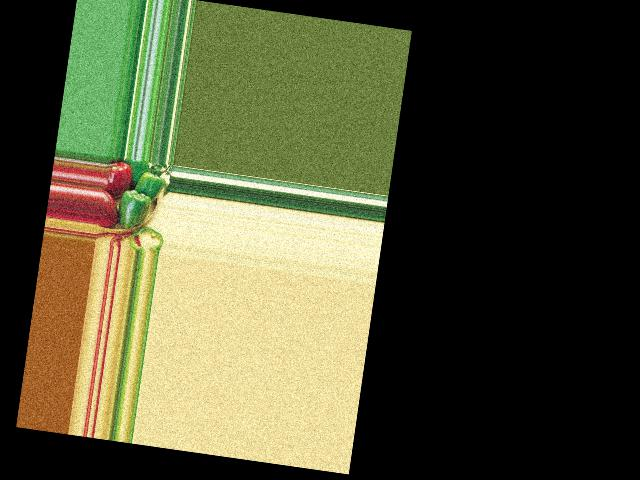bell_pepper: (98, 189, 119, 228)
